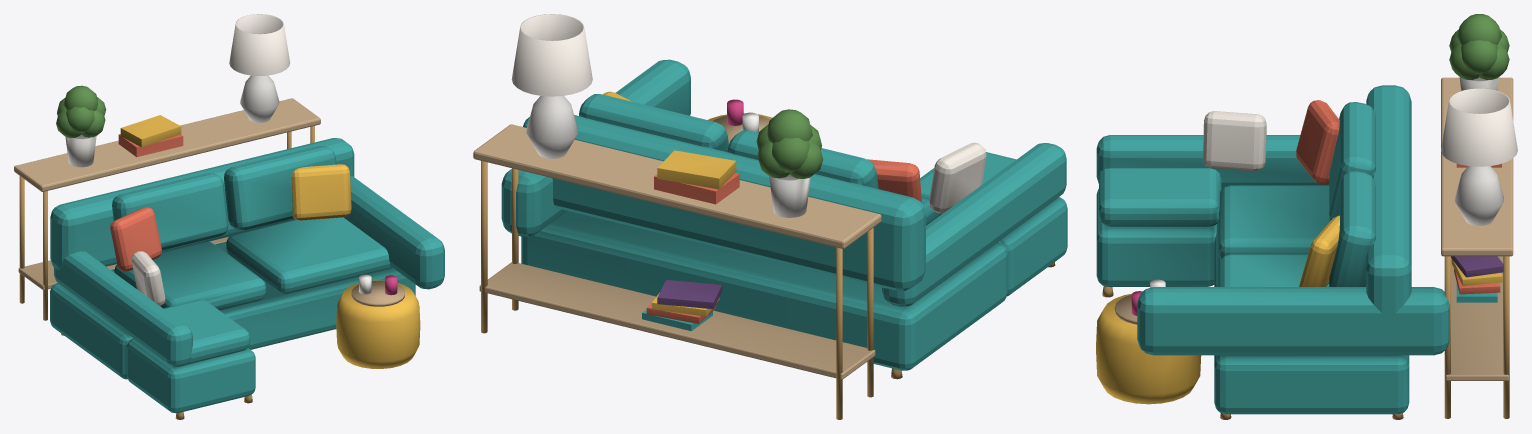
The model's file is conversationSectional.glb.
3 views of the same model, side by side, from view 1: azimuth 30°, elevation 25°; view 2: azimuth 150°, elevation 25°; view 3: azimuth 270°, elevation 25° (orthographic). The views are drawn at different scales.
Parts seen in each view (by area): view 1: body, seats; view 2: body, seats; view 3: body, seats.
Boxes of the visible parts, bbox=[...] form: body: bbox=[14, 14, 444, 419]; seats: bbox=[114, 217, 392, 364]; body: bbox=[473, 14, 1067, 419]; seats: bbox=[920, 152, 1016, 225]; body: bbox=[1096, 14, 1517, 419]; seats: bbox=[1099, 168, 1366, 286].
Size of the model in its own units: 1.9 by 1.42 by 1.86.
